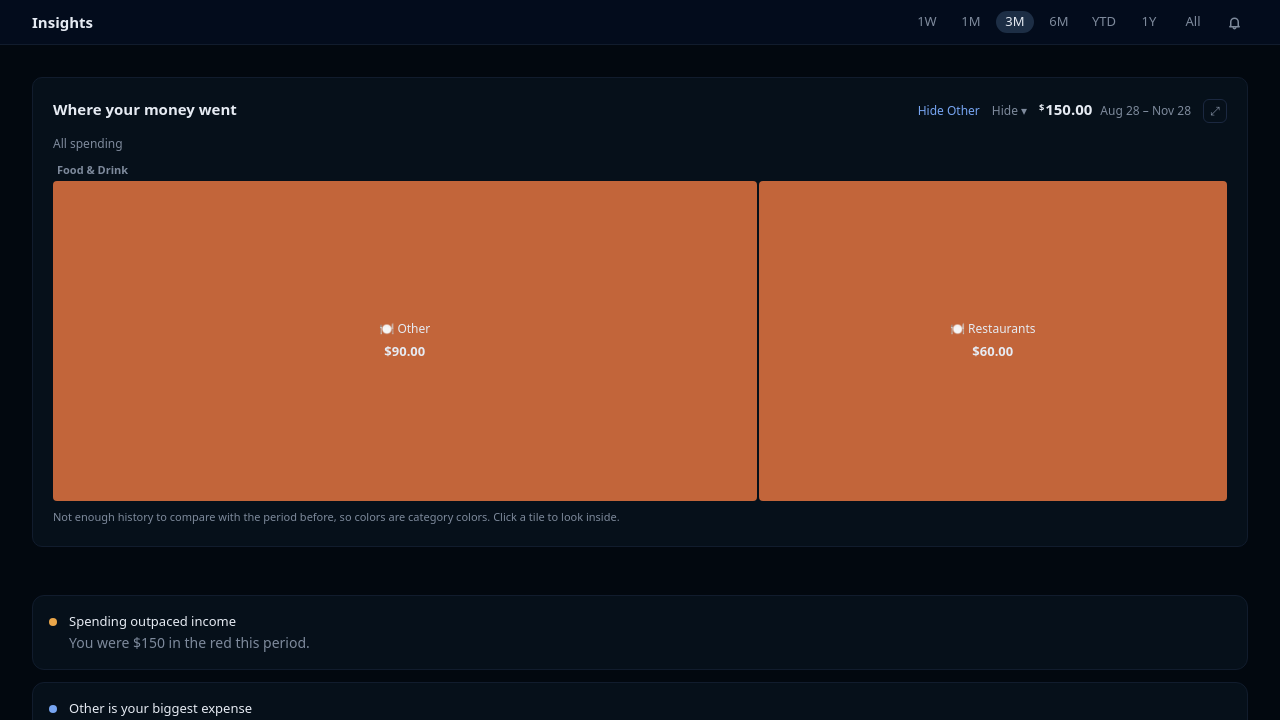
Test: Insights spending map: hiding categories › offers a quick "Hide Other"
Click the button "Hide Other" at (949, 111), box [918,102,980,120]
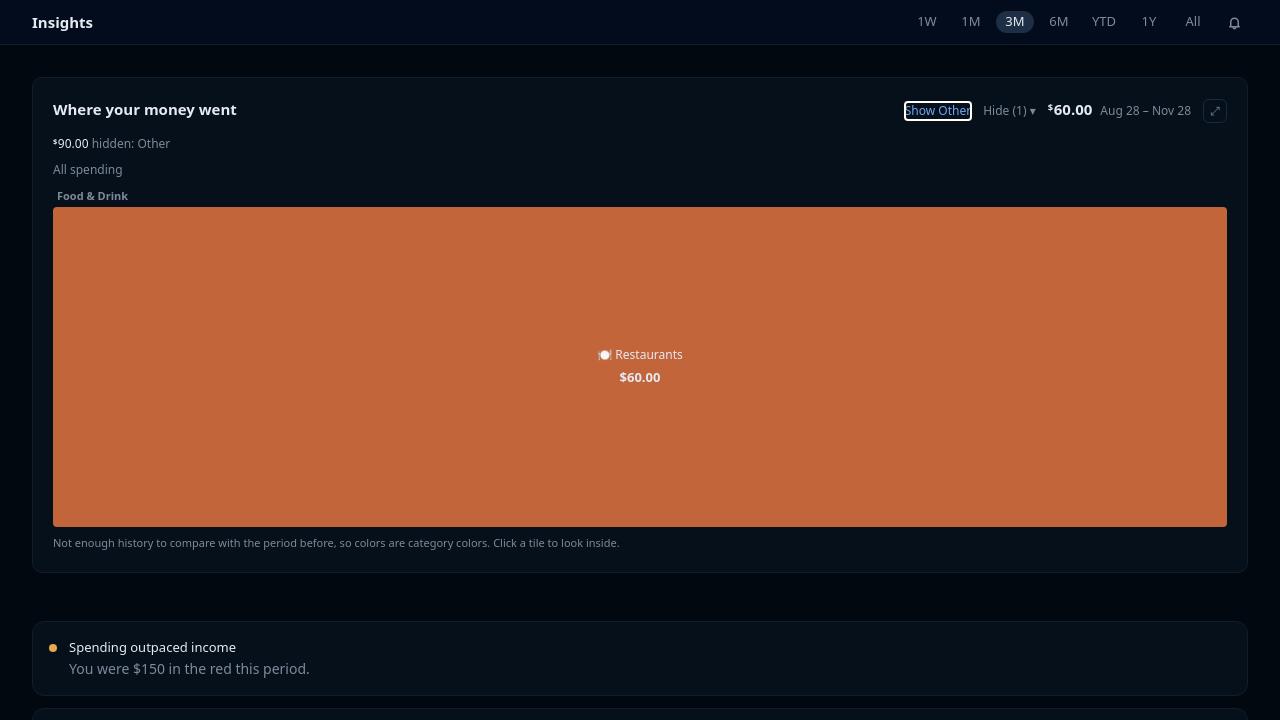
Expected: the element "Where your money went" shows "$90.00 hidden: Other"
Click the button "Show Other" at (938, 111), box [905,102,971,120]
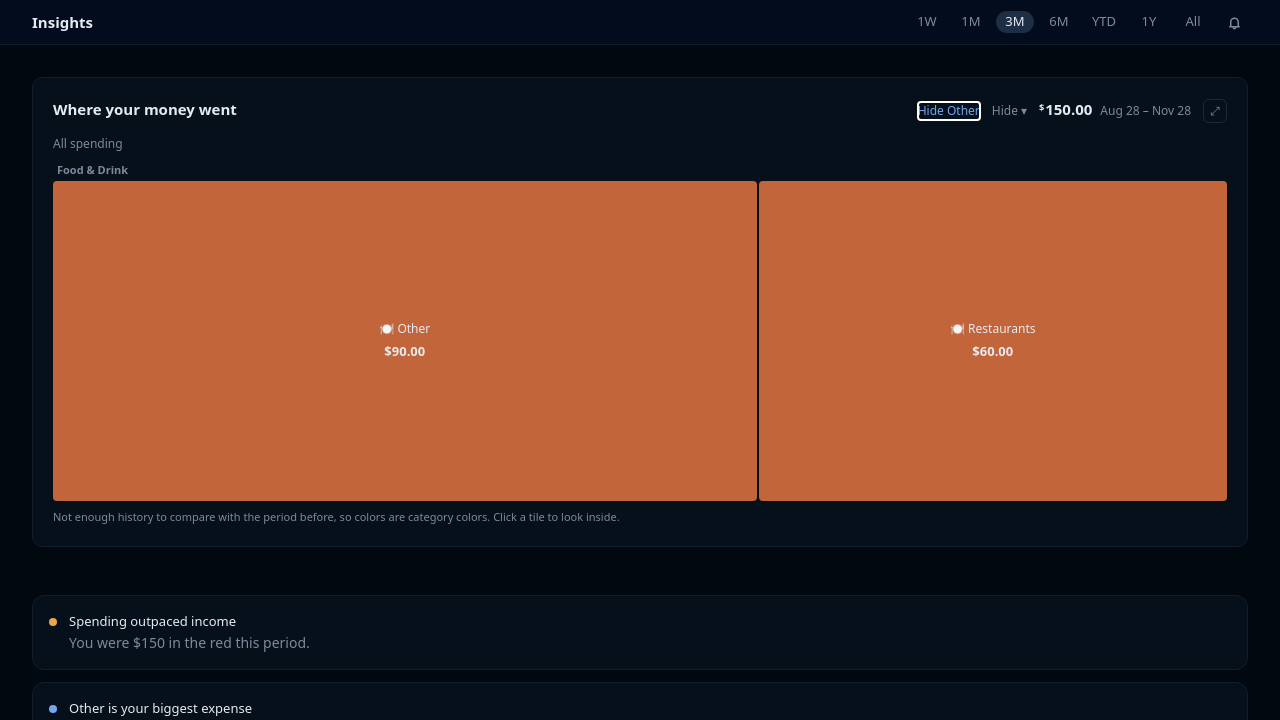
Expected: the element "Where your money went" no longer shows "hidden"
